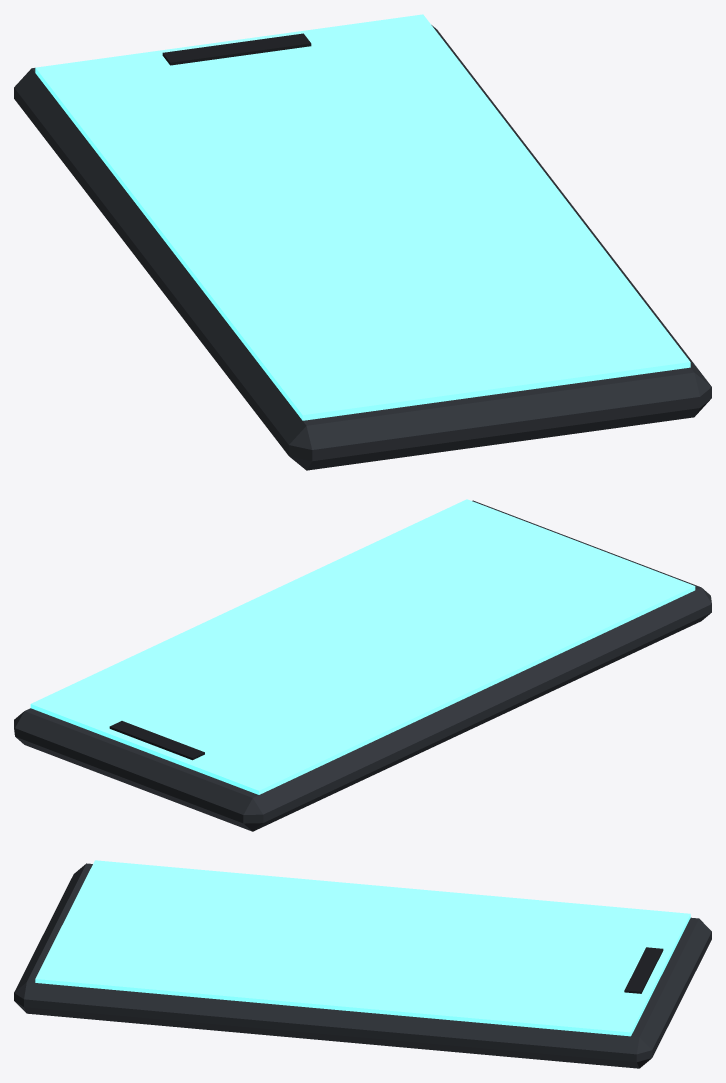
The model's file is smartphone.glb.
3 renders of one model, top to bottom at view 1: azimuth 30°, elevation 25°; view 2: azimuth 150°, elevation 25°; view 3: azimuth 270°, elevation 25°, orthographic. The views are drawn at different scales.
Parts seen in each view (by area): view 1: smartphone; view 2: smartphone; view 3: smartphone.
Boxes of the visible parts, x1,y1,x2,y2 form: smartphone: [14, 14, 711, 470]; smartphone: [14, 499, 711, 831]; smartphone: [14, 860, 711, 1068].
Bounding box in the file's own units: 0.1004 × 0.0095 × 0.1604.
